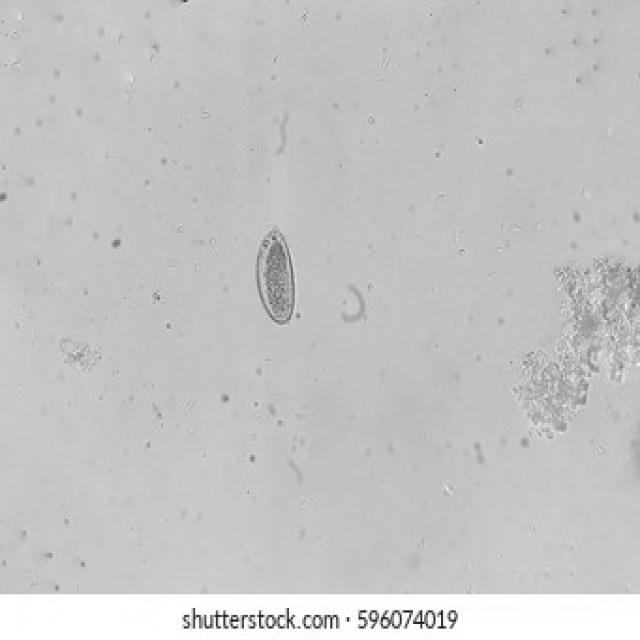Enterobius Vermicularis: (255, 221, 298, 330)
